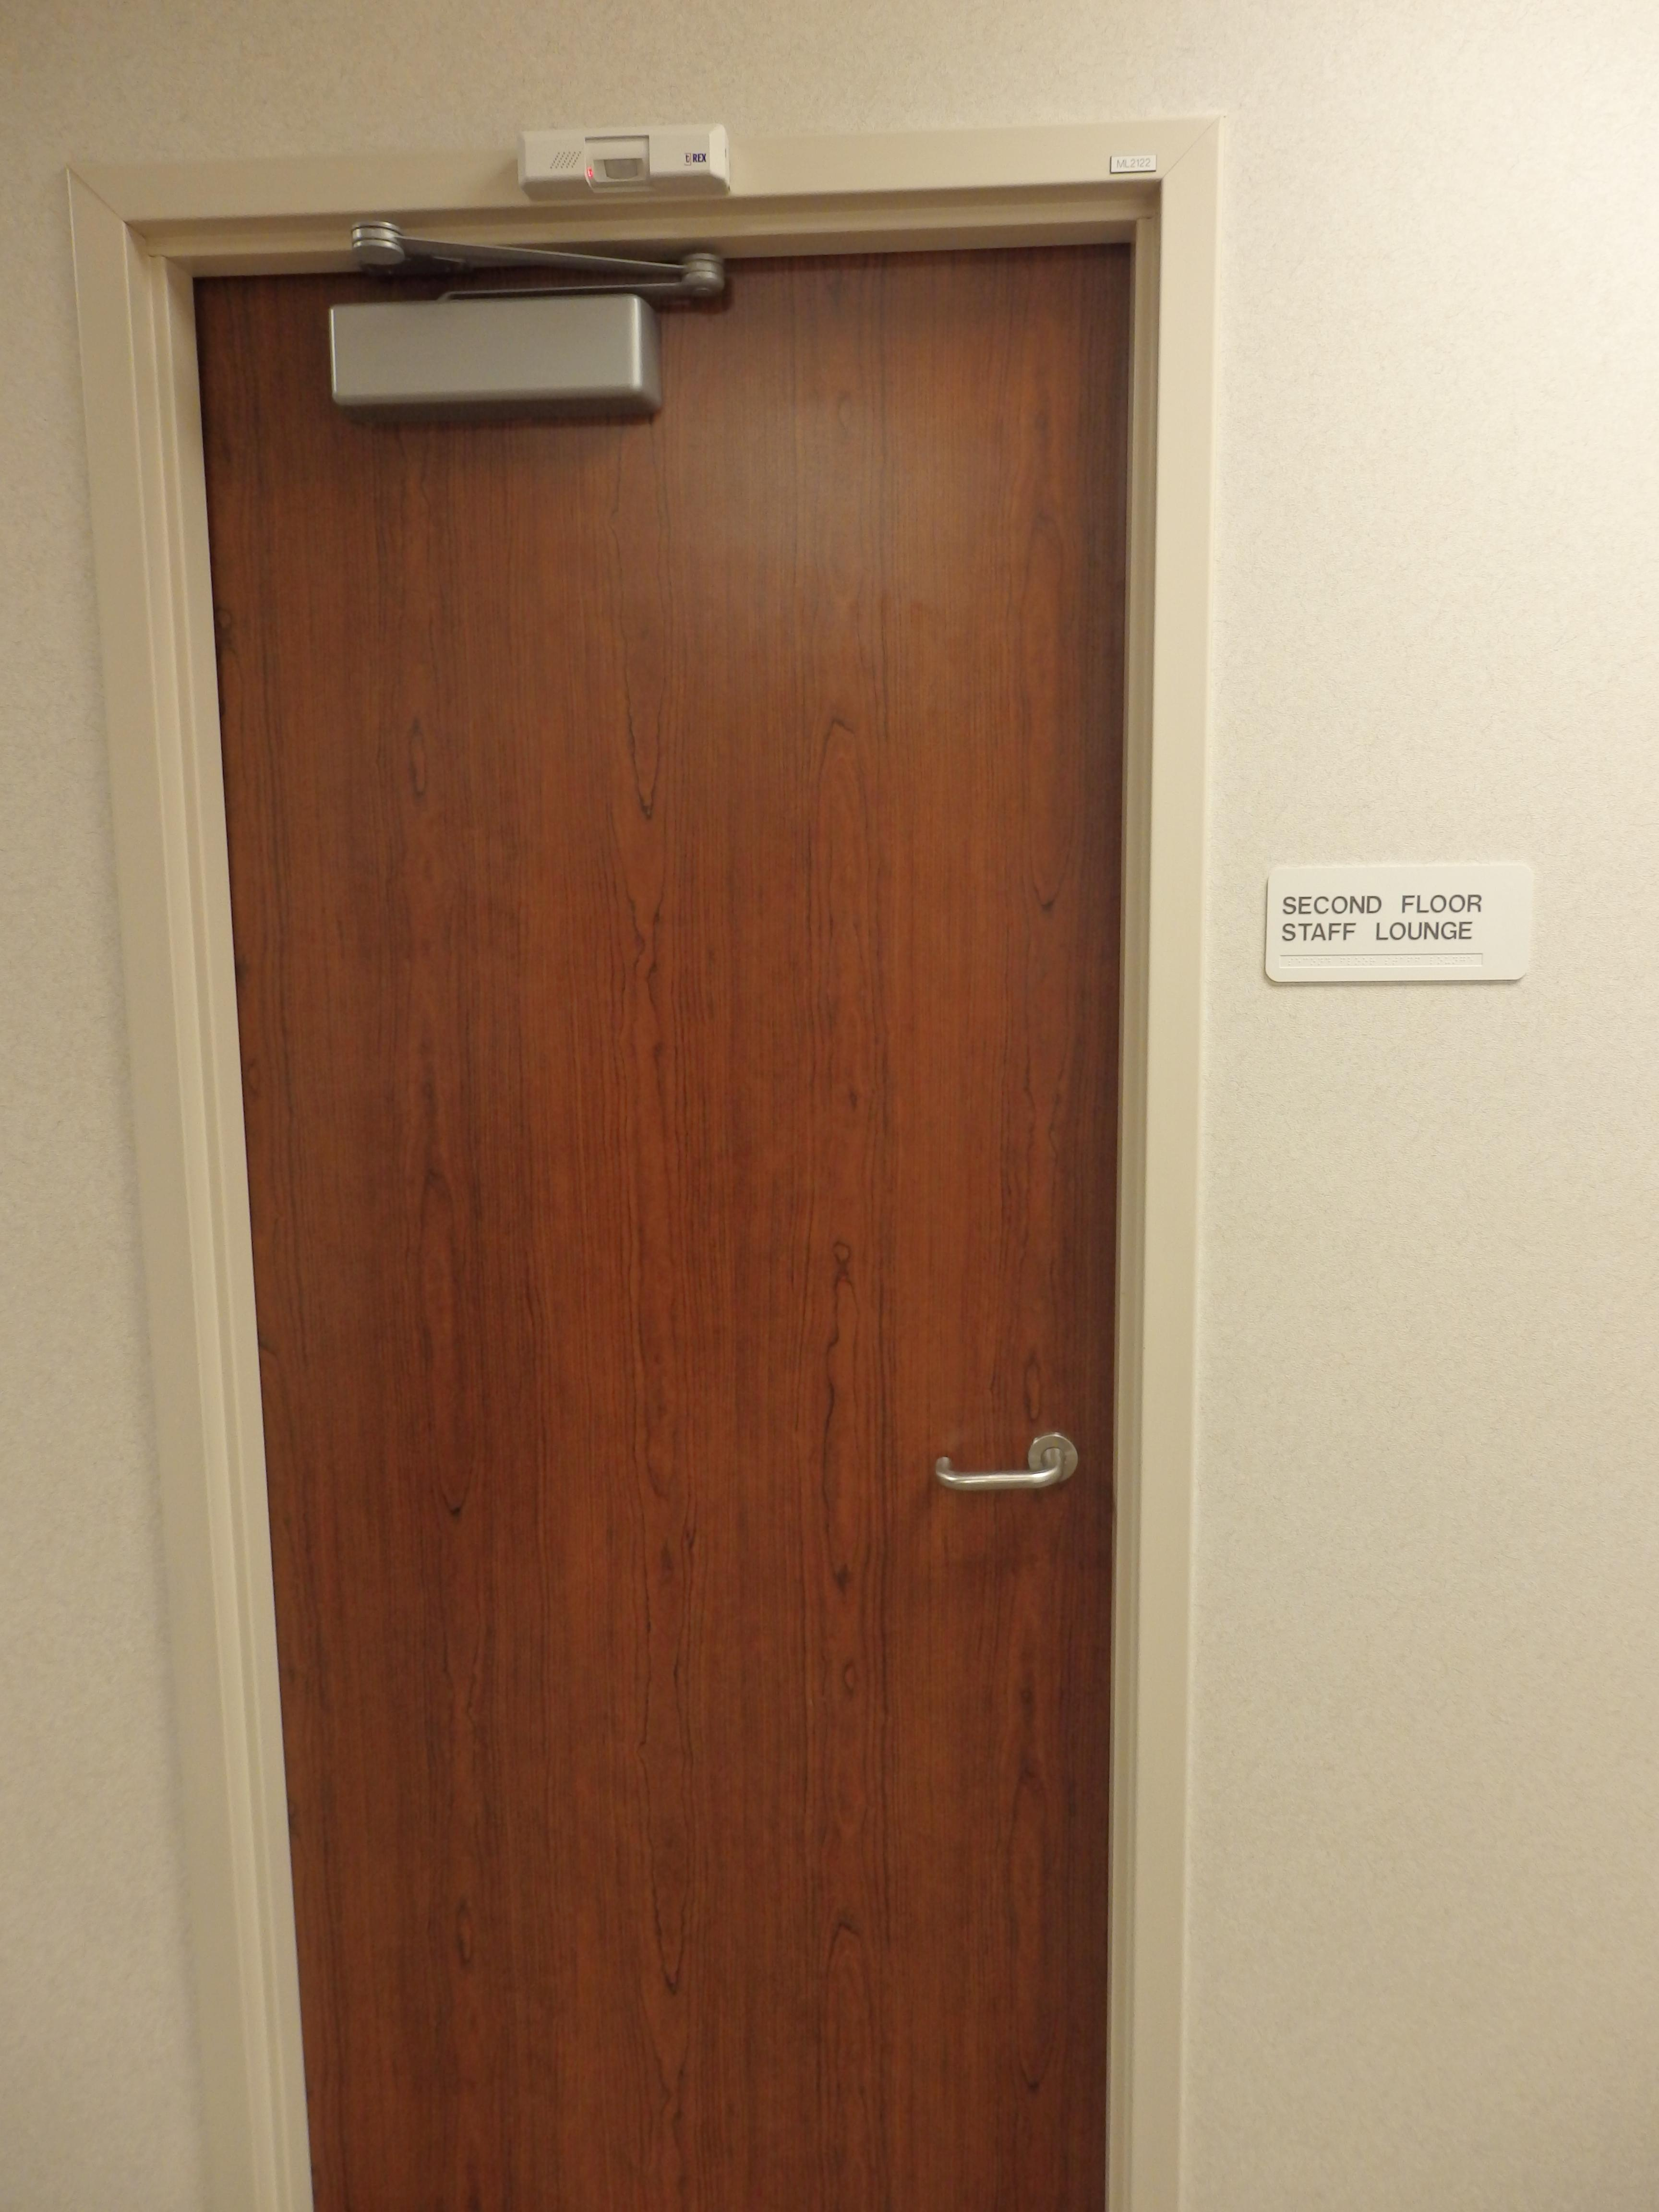door: (174, 247, 1121, 2212)
